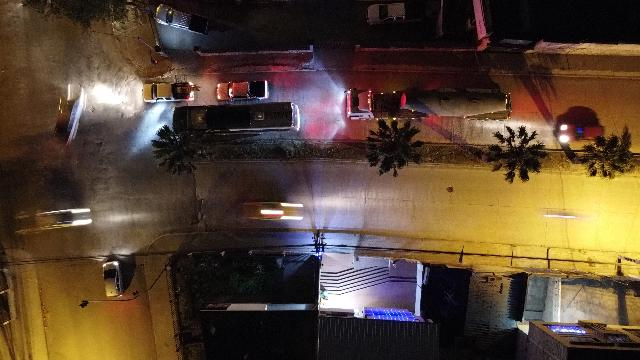Vehiculo: (214, 78, 272, 102), (141, 80, 199, 103), (558, 124, 604, 142), (102, 261, 124, 298)
